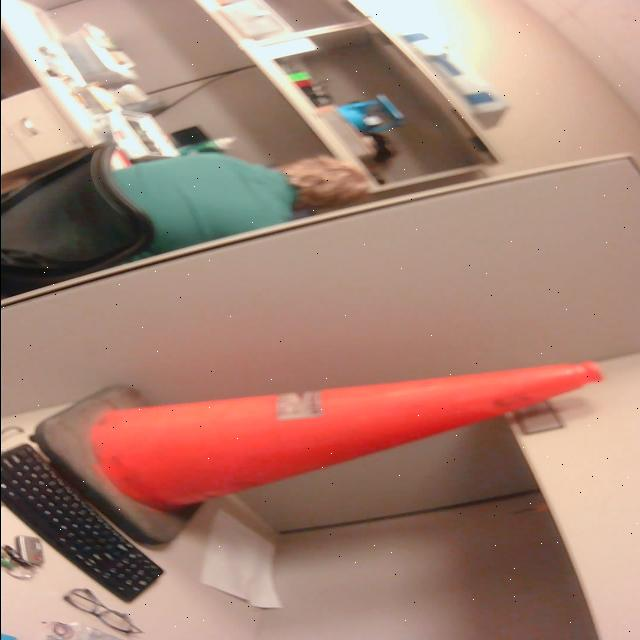traffic cone: (29, 357, 609, 551)
